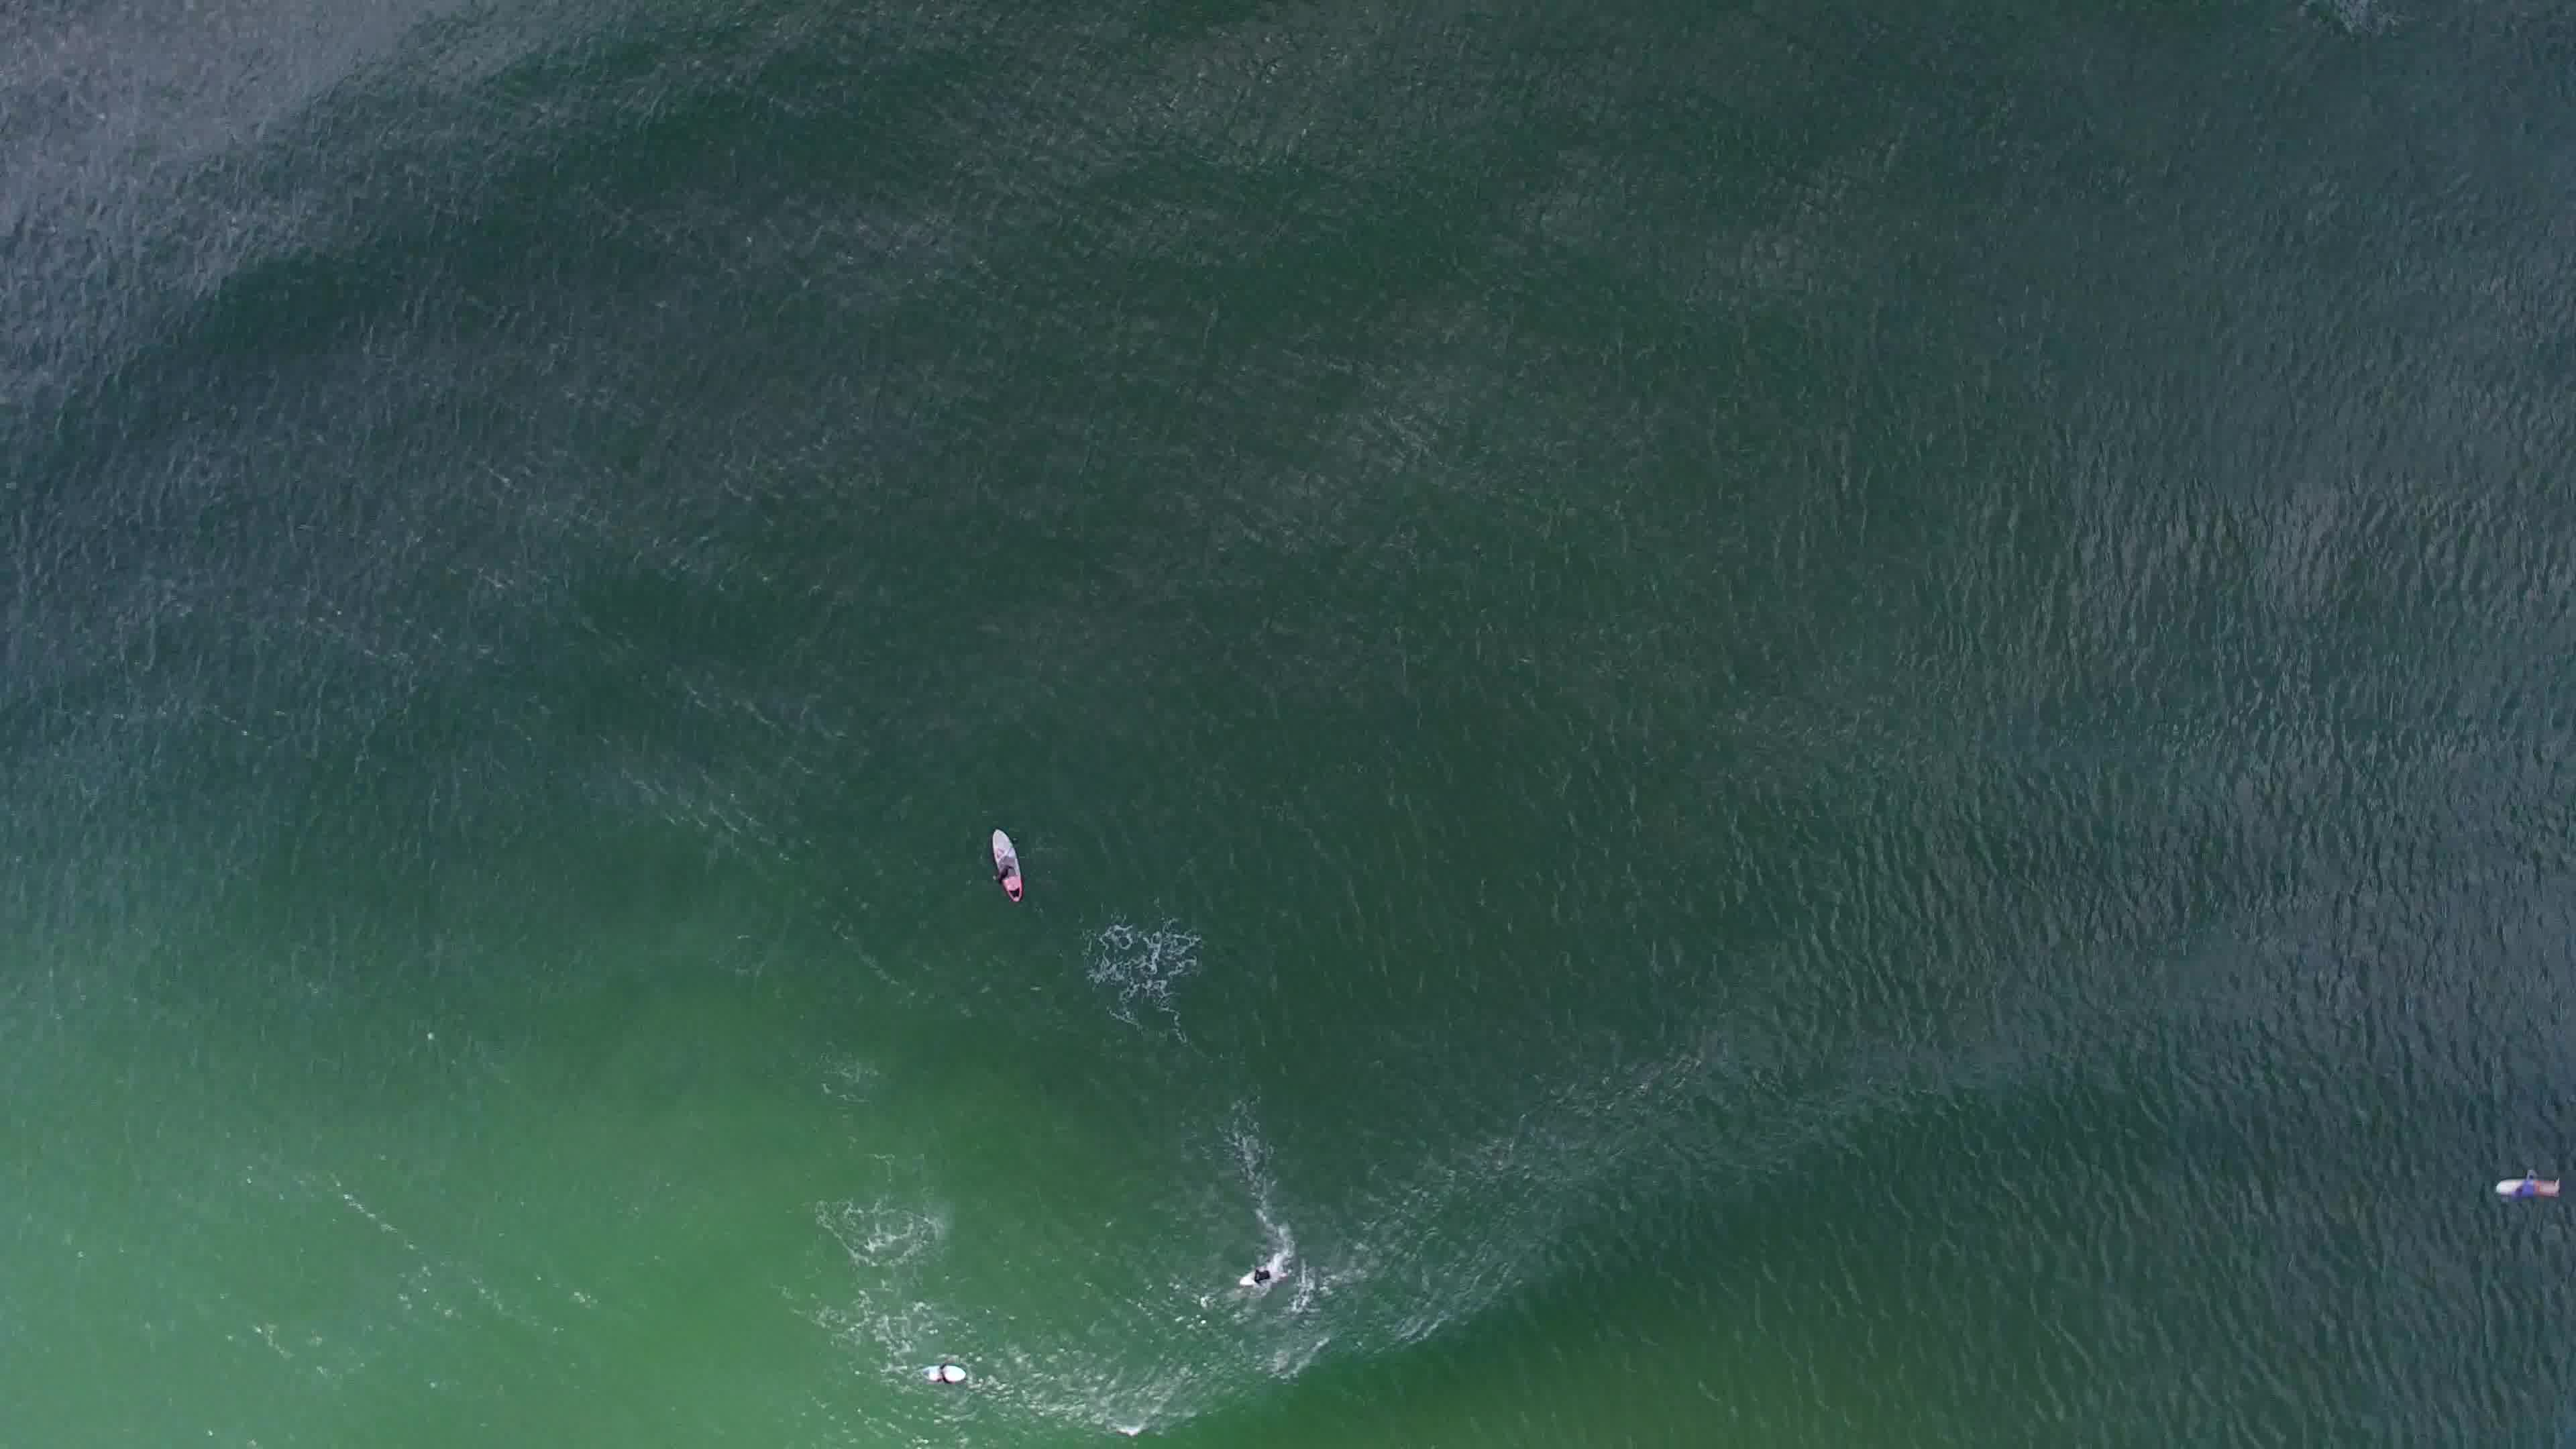surfer: (982, 819, 1035, 908), (2489, 1169, 2567, 1203), (908, 1353, 971, 1387), (1238, 1254, 1284, 1293)
